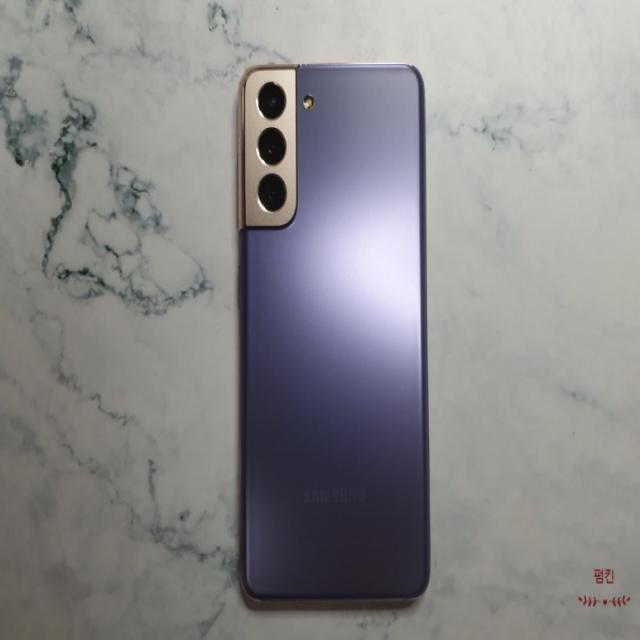phone: (240, 62, 430, 606)
